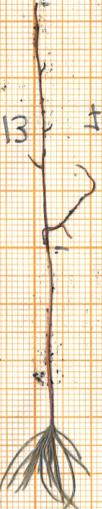flower: (0, 423, 95, 509)
root: (24, 3, 97, 247)
stem: (42, 248, 62, 422)
